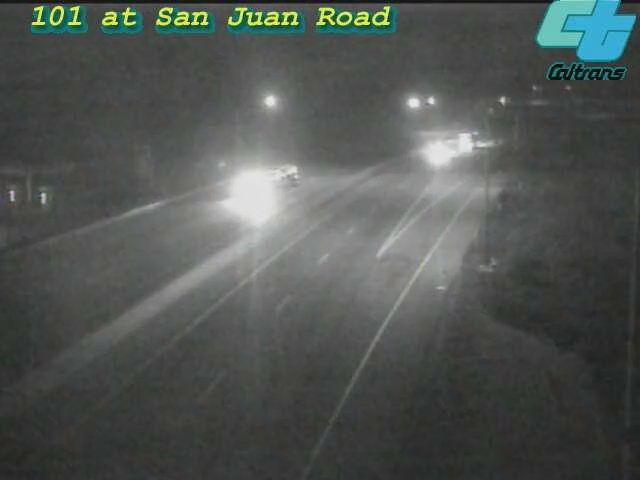vehicle: (220, 143, 300, 223), (443, 115, 493, 165), (416, 128, 466, 178)
